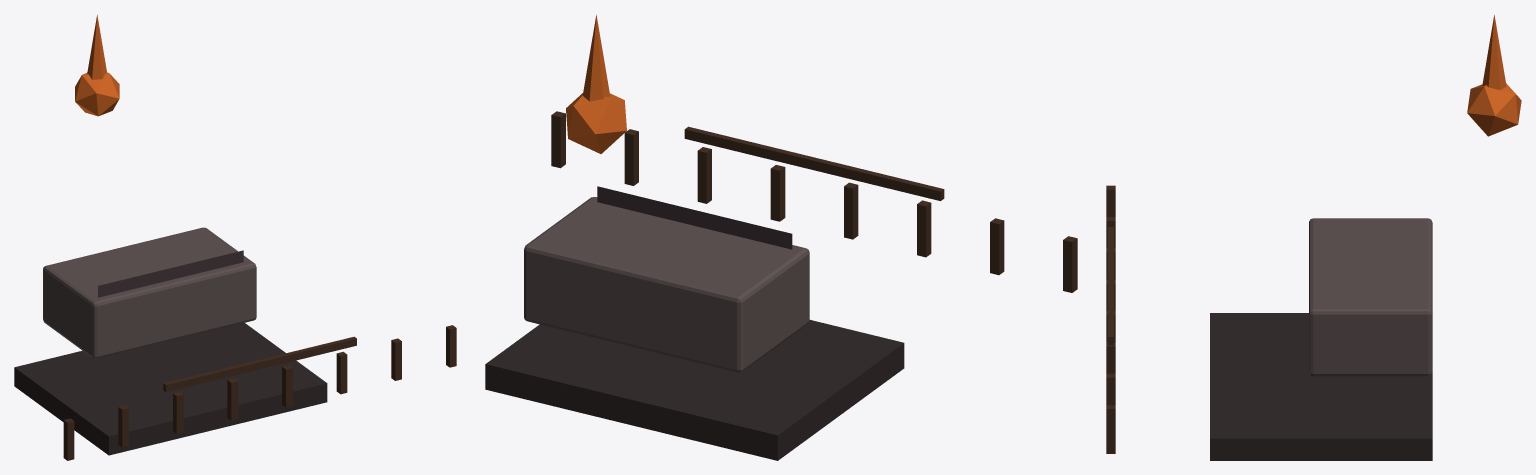
Rendered from ember_spark_kennel.glb.
3 views of the same model, side by side, from view 1: azimuth 30°, elevation 25°; view 2: azimuth 150°, elevation 25°; view 3: azimuth 270°, elevation 25° (orthographic). The views are drawn at different scales.
Visible parts, largest first — view 1: ember_spark_kennel; view 2: ember_spark_kennel; view 3: ember_spark_kennel.
Boxes of the visible parts, <box> form: ember_spark_kennel: <box>14,15,456,460</box>; ember_spark_kennel: <box>485,14,1077,460</box>; ember_spark_kennel: <box>1106,15,1521,460</box>.
Bounding box in the file's own units: 42.75 × 34.28 × 33.58.
